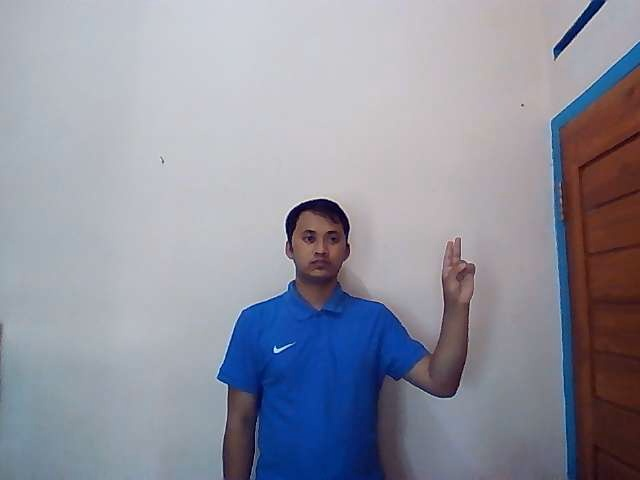U: (440, 237, 477, 306)
